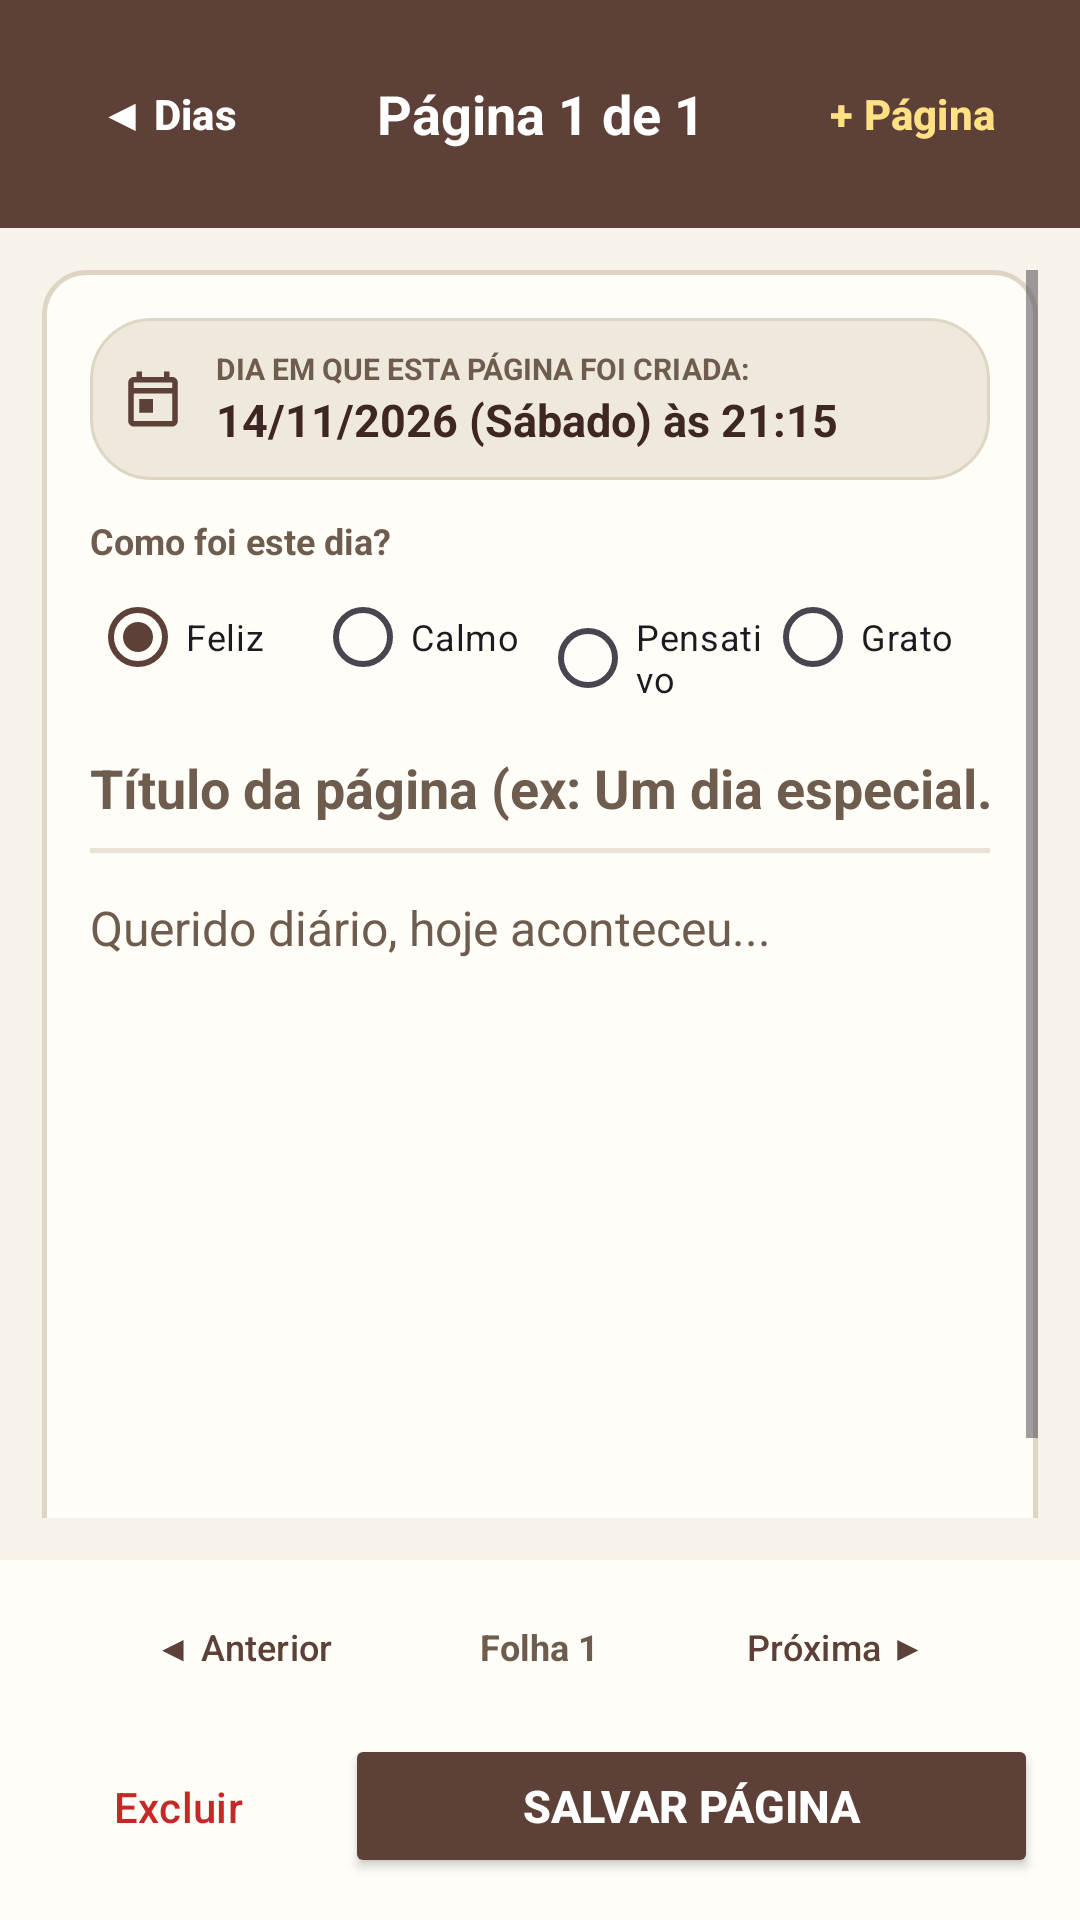

Named icons in this screenshot (1080 x 1920) and their bounding boxes, (x1, y1, x2, y2):
Data de criação: (128, 371, 178, 427)
